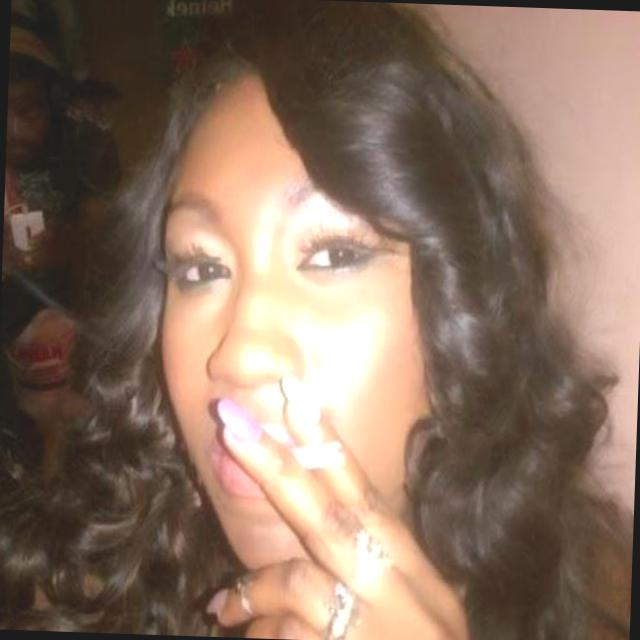smoke: (256, 420, 374, 486)
